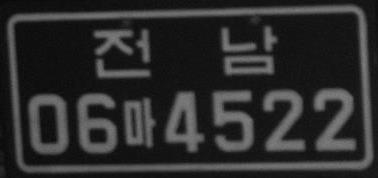0: (26, 92, 70, 155)
2: (261, 86, 307, 152), (312, 86, 358, 152)
4: (164, 89, 205, 153)
5: (209, 88, 255, 152)
6: (76, 90, 119, 155)
마: (122, 96, 157, 149)
전남_D: (92, 24, 278, 79)
